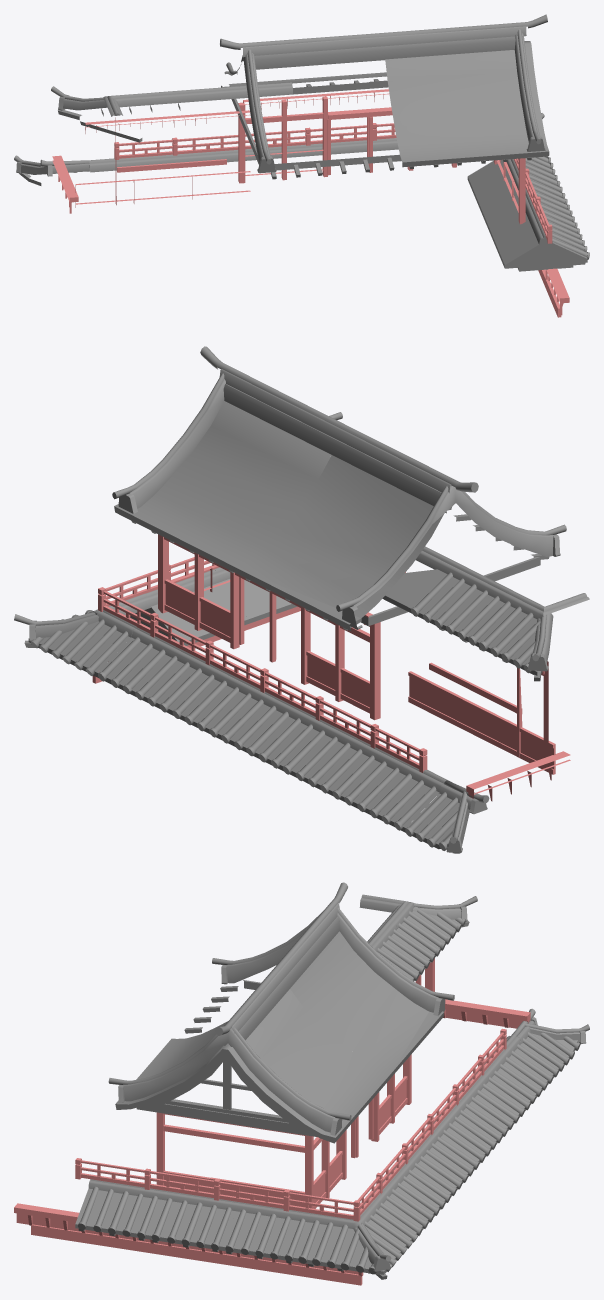
File: S_Envi_Umeda_Building_021.gltf
3 views of the same model, one above another, from view 1: azimuth 30°, elevation 25°; view 2: azimuth 150°, elevation 25°; view 3: azimuth 270°, elevation 25° (orthographic). The views are drawn at different scales.
Parts seen in each view (by area): view 1: S_Envi_Umeda_Building_021; view 2: S_Envi_Umeda_Building_021; view 3: S_Envi_Umeda_Building_021.
Part boxes in pixels (left/top/right/bottom): S_Envi_Umeda_Building_021: left=14, top=14, right=589, bottom=317; S_Envi_Umeda_Building_021: left=14, top=346, right=589, bottom=853; S_Envi_Umeda_Building_021: left=14, top=882, right=589, bottom=1285.
Bounding box in the file's own units: 34.3 × 16.02 × 34.02.
